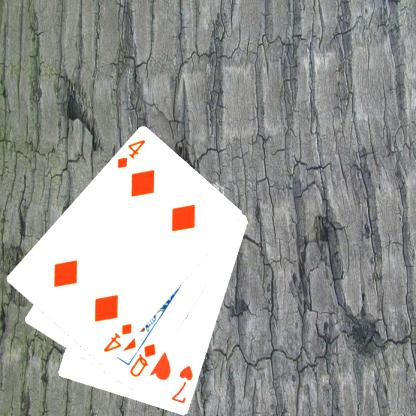4D: (100, 321, 134, 354), (114, 137, 147, 170)
7H: (168, 363, 195, 405)
QD: (127, 341, 158, 379)
